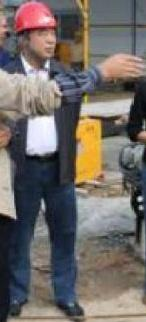boots: (57, 300, 85, 322), (8, 298, 26, 316)
hard-hat: (13, 1, 57, 33)
